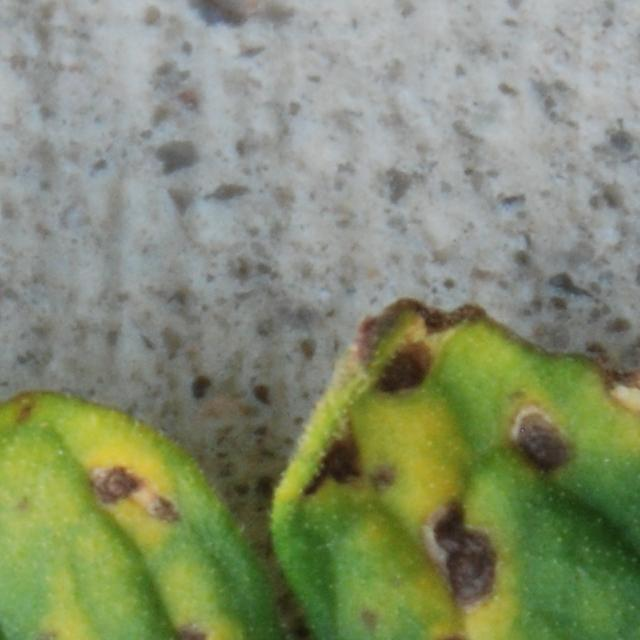Tomato Early blight leaf: (0, 323, 640, 640)
